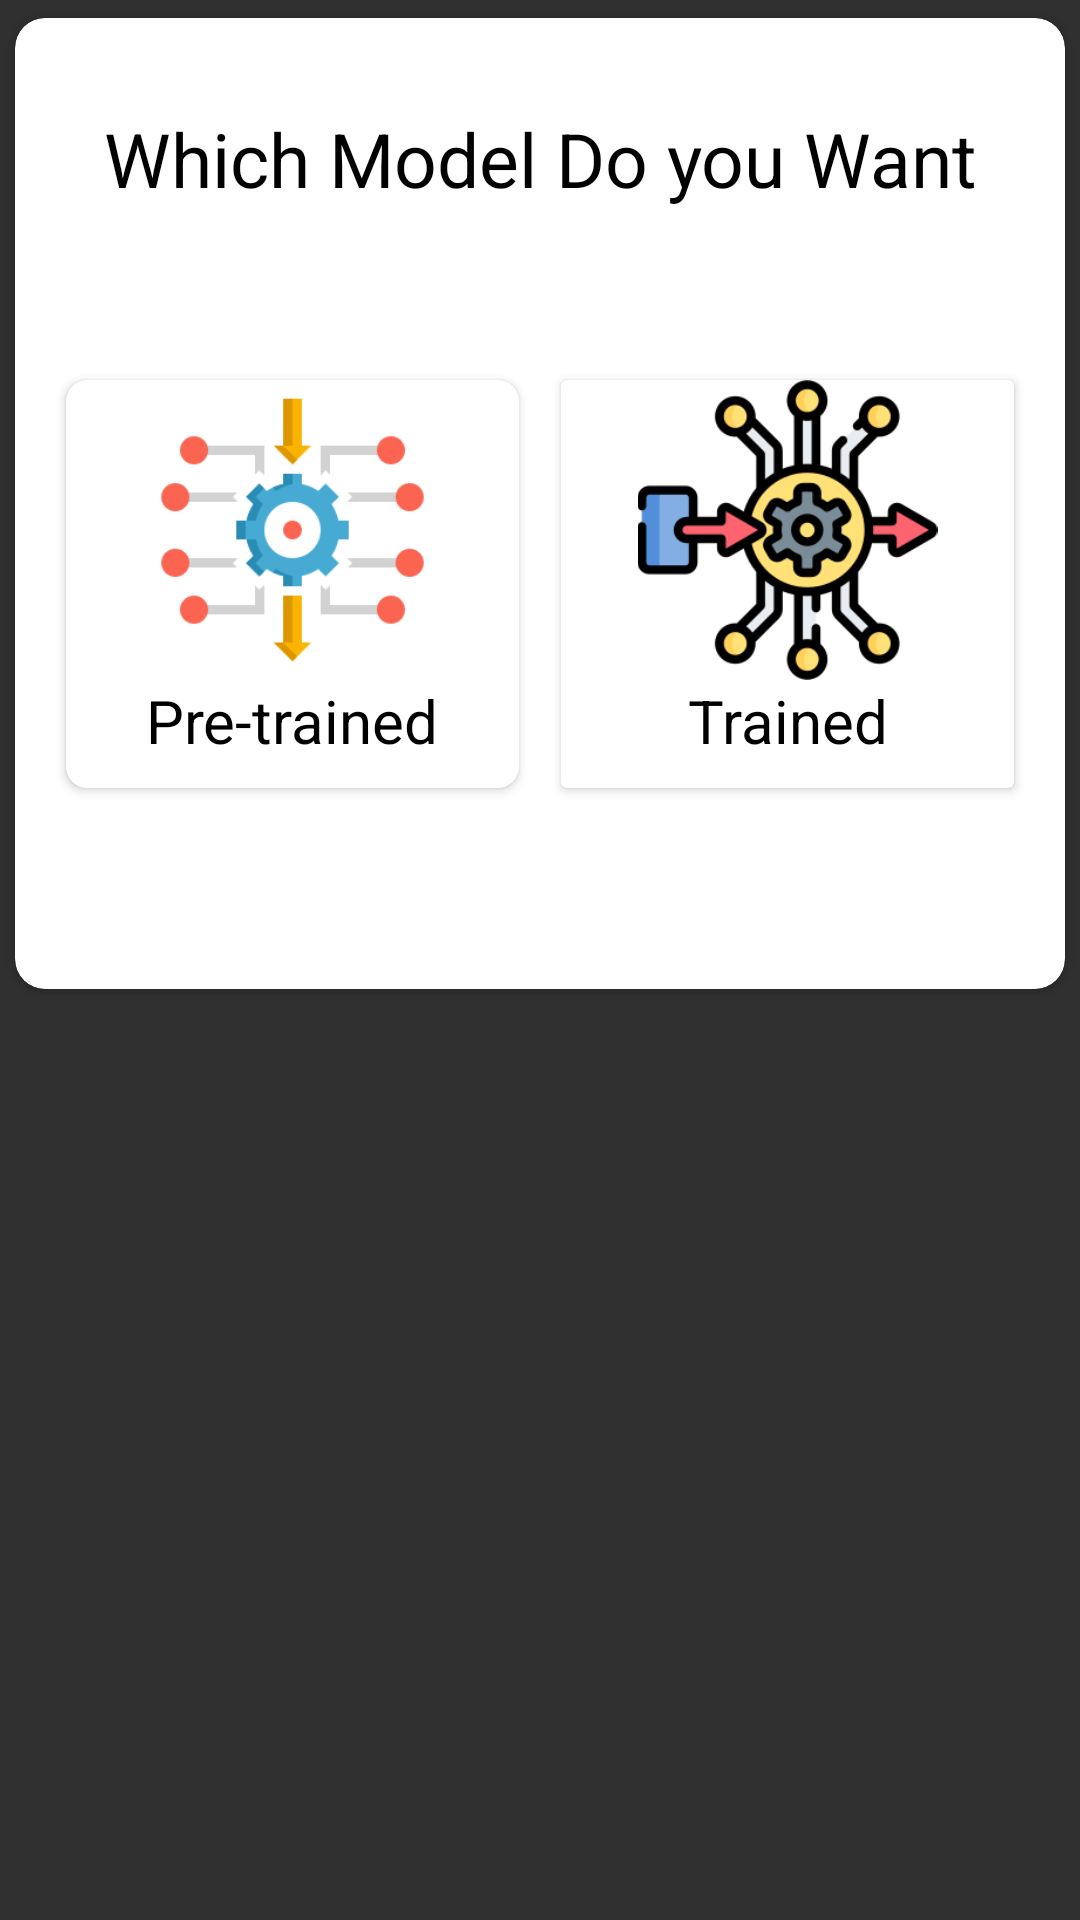

Icon click points for this 1080w x 1920h phone screenshot, format [x,y]:
model: [788,530]
old model: [245,526]
